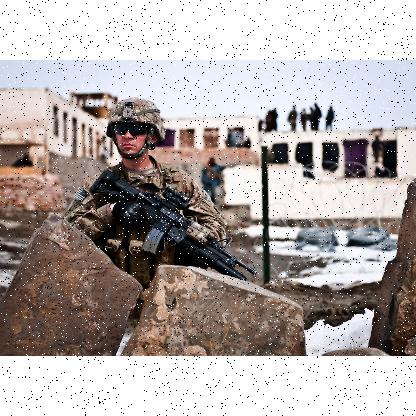gun: (70, 169, 250, 289)
